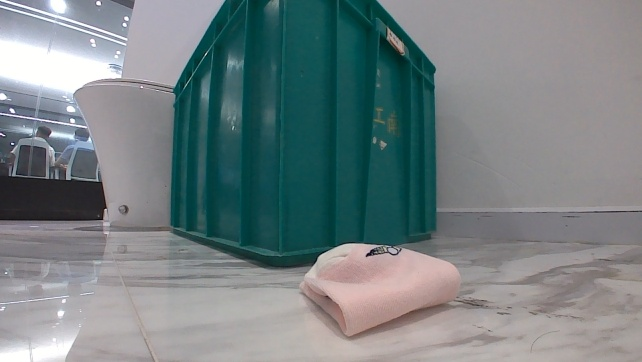socks: (290, 236, 464, 336)
toilet: (70, 72, 179, 231)
